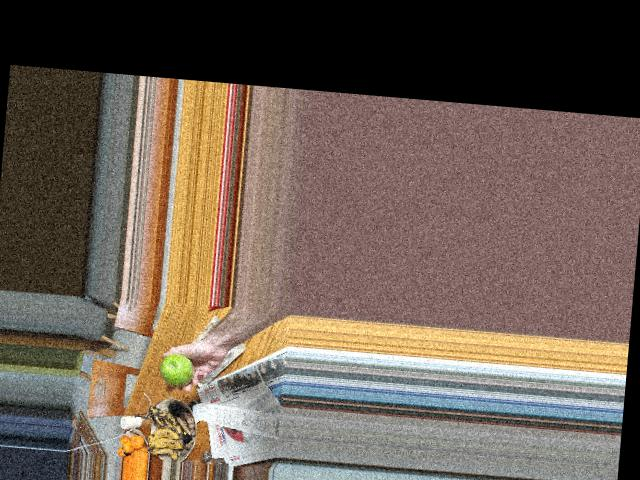apple: (158, 352, 195, 388)
